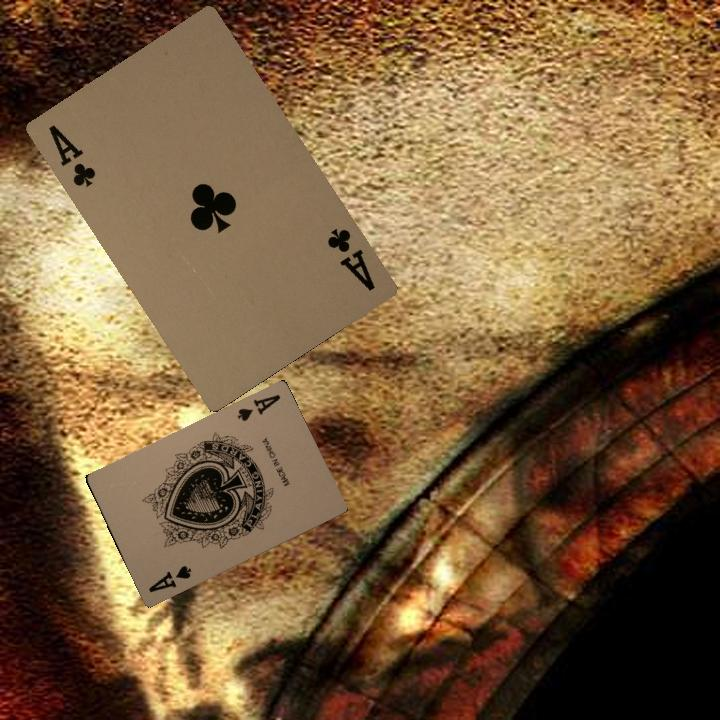Ac: (322, 224, 378, 294), (44, 120, 98, 189)
As: (144, 561, 194, 595), (233, 390, 283, 424)
